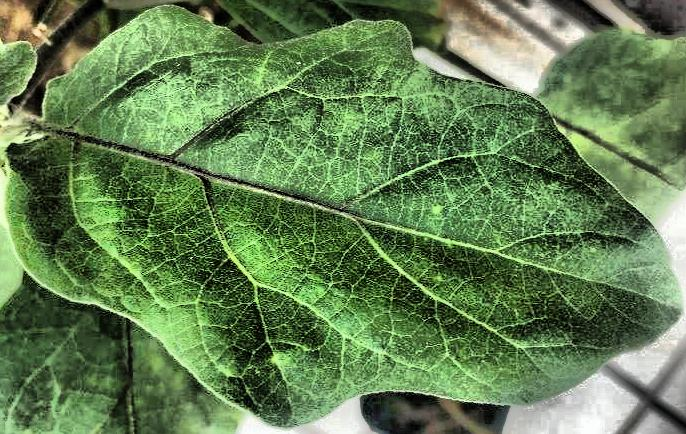HEALTHY: (0, 1, 686, 434)
